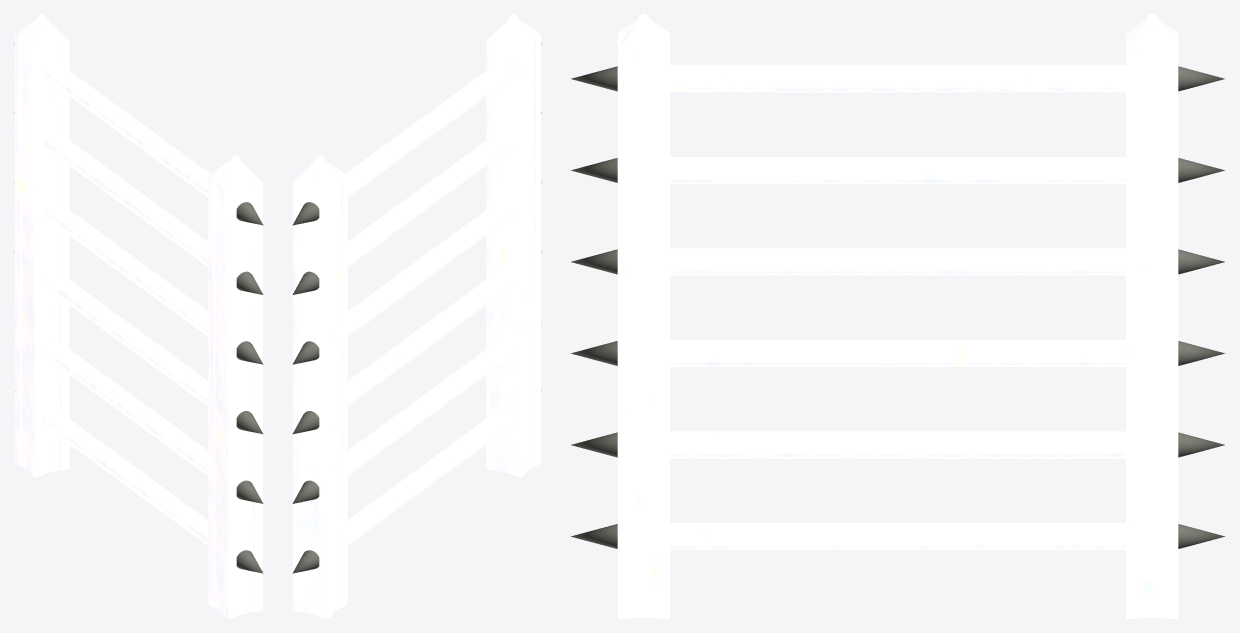
Rendered from CA_015_016_iron_ladder.glb.
The picture shows the model from 3 angles, left to right: view 1: azimuth 30°, elevation 25°; view 2: azimuth 150°, elevation 25°; view 3: azimuth 270°, elevation 25°; orthographic projection. The views are drawn at different scales.
Visible parts, largest first — view 1: ladder_support, ladder_bars, spikes; view 2: ladder_support, ladder_bars, spikes; view 3: ladder_bars, ladder_support, spikes.
Part boxes in pixels (bbox=[...]): ladder_support: bbox=[15, 14, 262, 618]; ladder_bars: bbox=[43, 60, 210, 545]; spikes: bbox=[14, 43, 263, 573]; ladder_support: bbox=[293, 14, 540, 618]; ladder_bars: bbox=[345, 60, 512, 545]; spikes: bbox=[292, 43, 541, 573]; ladder_bars: bbox=[670, 65, 1125, 549]; ladder_support: bbox=[617, 14, 1178, 618]; spikes: bbox=[570, 66, 1225, 548].
Size of the model in its own units: 0.18 by 2.25 by 2.25.
Materials: 2 (1 with a texture image).
